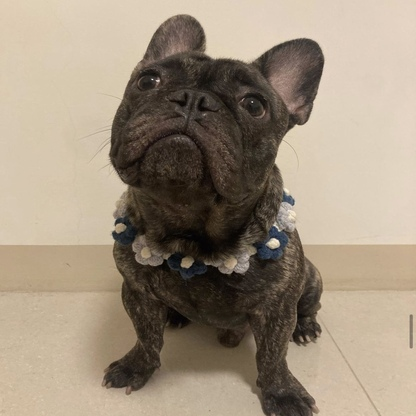bulldog: (100, 12, 327, 416)
